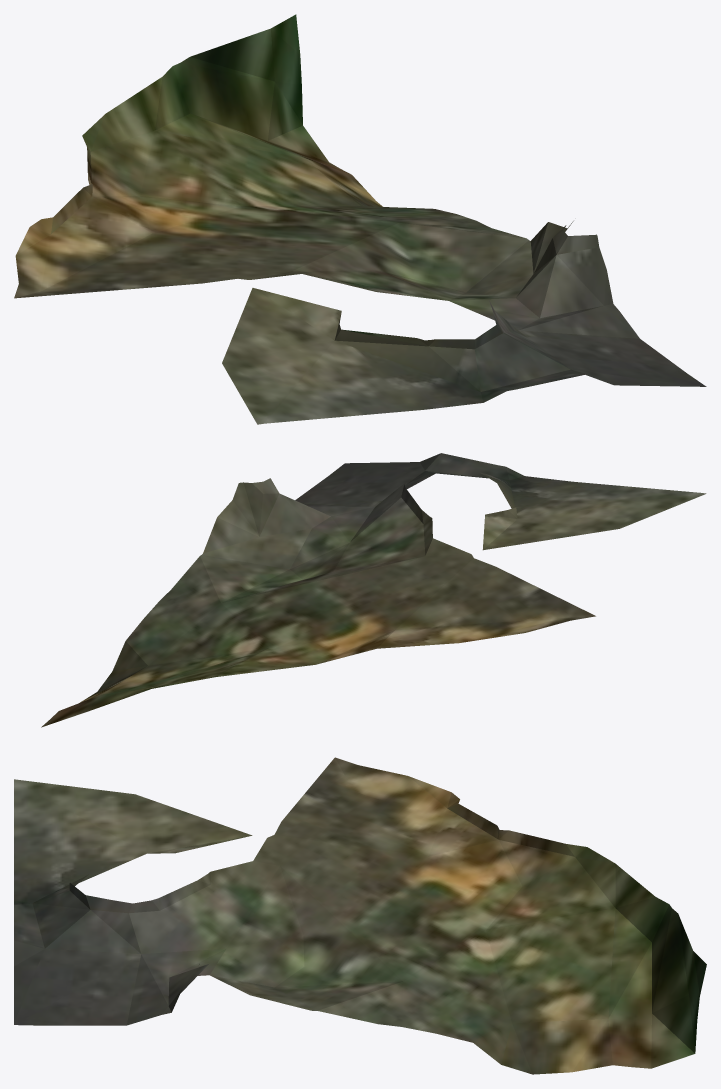
3 renders of one model, top to bottom at view 1: azimuth 30°, elevation 25°; view 2: azimuth 150°, elevation 25°; view 3: azimuth 270°, elevation 25°, orthographic. The views are drawn at different scales.
Size of the model in its own units: 0.5236 by 0.1301 by 0.741.
Materials: 1 (1 with a texture image).
